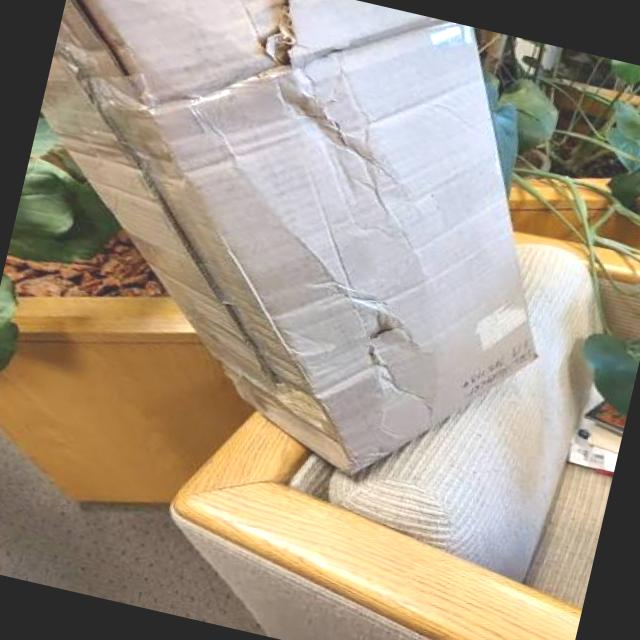package_damage: (306, 280, 488, 446), (216, 0, 410, 127), (49, 0, 189, 97)
